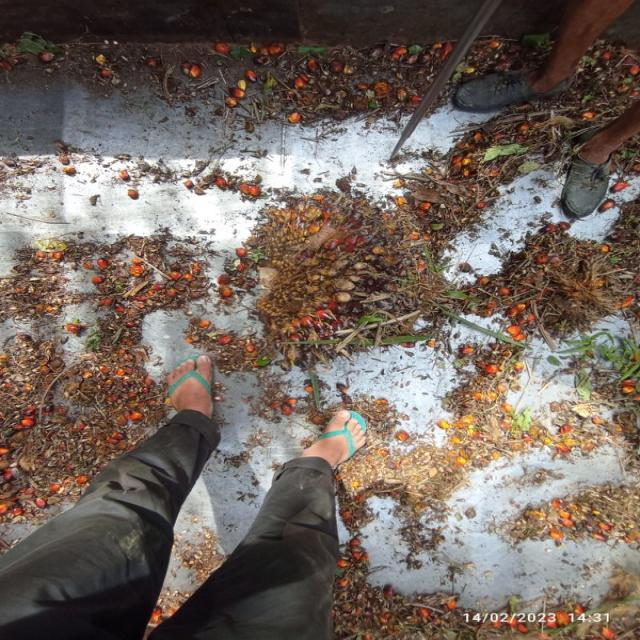fraksi 00: (237, 179, 434, 367)
